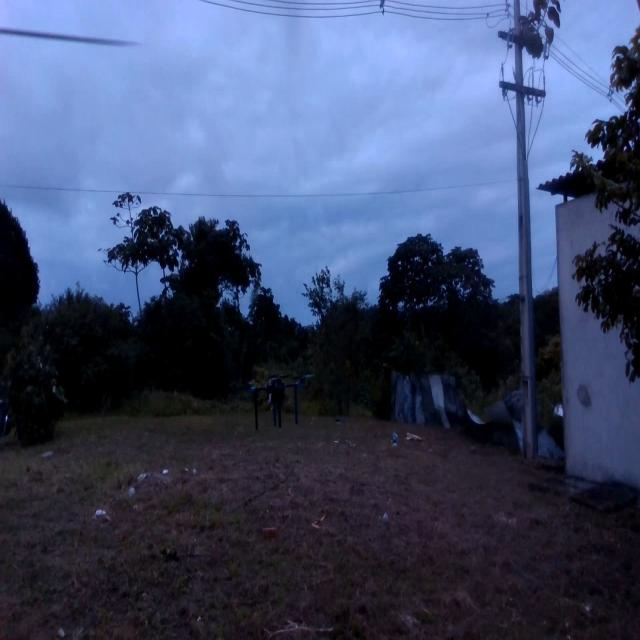-uav-: (240, 362, 312, 434)
